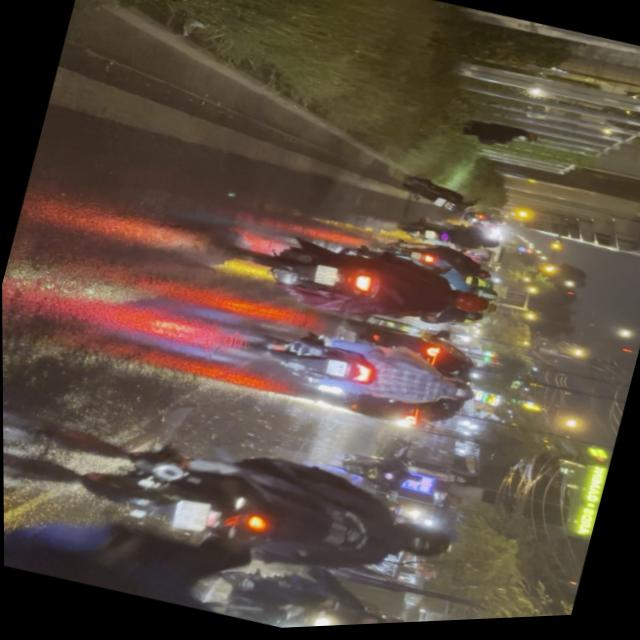helmet: (388, 525, 453, 573), (442, 286, 489, 324), (434, 381, 476, 412)
licenseplate: (65, 394, 474, 616), (232, 208, 497, 358), (256, 309, 488, 436)
nohelmet: (169, 498, 211, 538), (311, 266, 338, 290), (323, 361, 345, 381)
